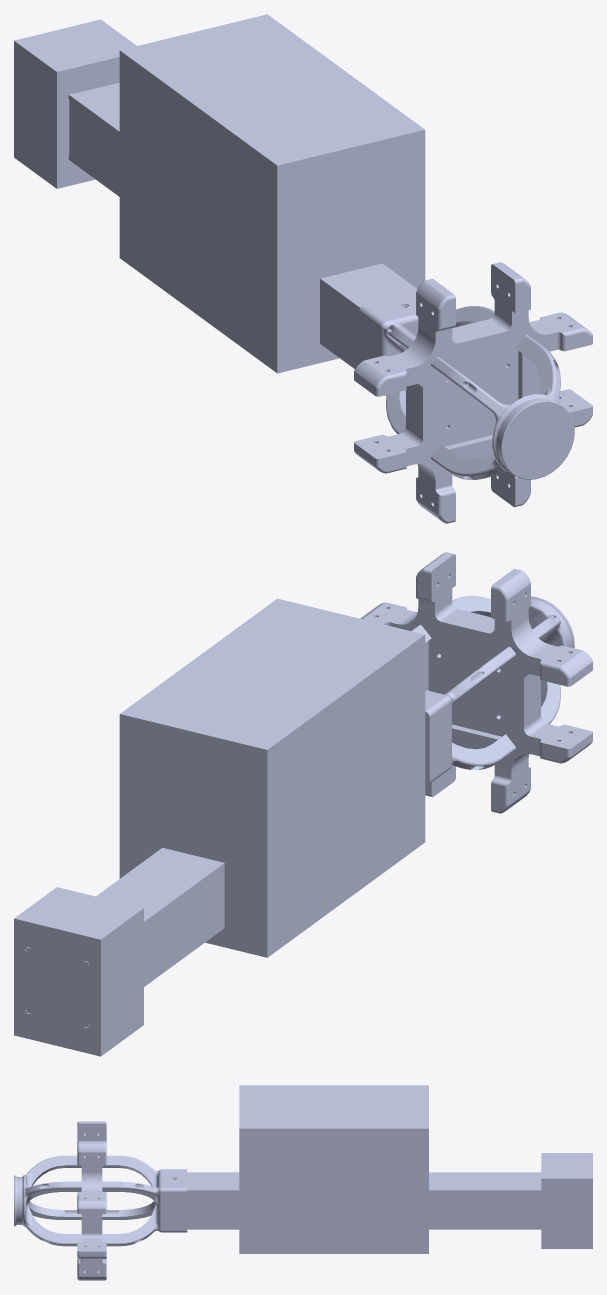
Rendered from pole.glb.
3 renders of one model, top to bottom at view 1: azimuth 30°, elevation 25°; view 2: azimuth 150°, elevation 25°; view 3: azimuth 270°, elevation 25°, orthographic. The views are drawn at different scales.
Parts seen in each view (by area): view 1: pole v1; view 2: pole v1; view 3: pole v1.
Boxes of the visible parts, <box> form: pole v1: <box>14,14,592,523</box>; pole v1: <box>14,552,592,1056</box>; pole v1: <box>14,1085,592,1280</box>.
Bounding box in the file's own units: 0.175 × 0.2075 × 0.671.
